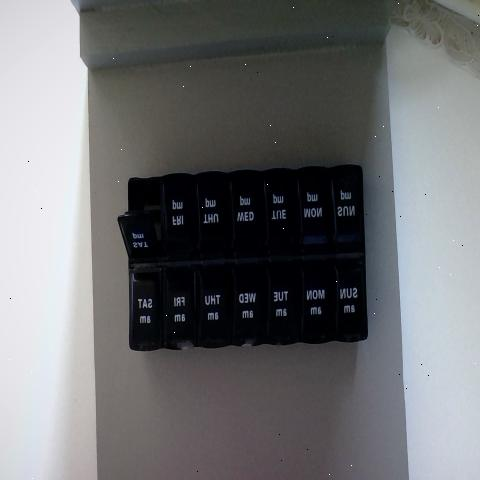FRI-am: (170, 272, 198, 349)
FRI-pm: (168, 178, 202, 265)
MON-am: (300, 259, 334, 340)
MON-pm: (299, 163, 335, 247)
Open: (119, 178, 166, 255)
PillBox: (111, 134, 374, 368)
SAT-am: (131, 269, 166, 351)
SUN-am: (335, 253, 368, 339)
SUN-pm: (332, 166, 366, 248)
THU-am: (203, 264, 236, 347)
THU-pm: (203, 178, 239, 256)
TUE-am: (269, 260, 300, 341)
TUE-pm: (266, 169, 298, 246)
WED-am: (237, 261, 270, 344), (238, 171, 269, 251)
